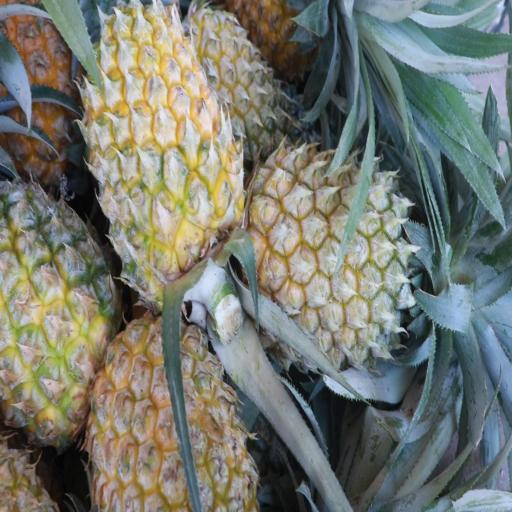------------------------------: (1, 168, 128, 450)
Pineapple - v8 v1: (74, 0, 248, 336), (243, 133, 426, 372), (82, 305, 265, 512)
